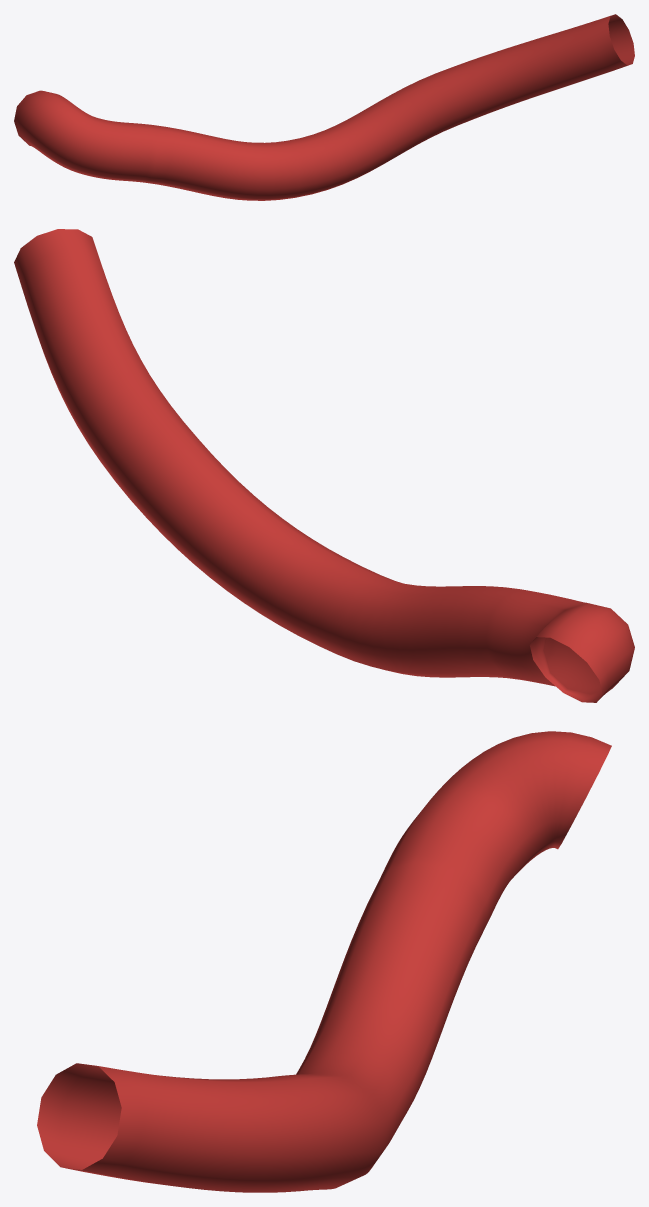
3 renders of one model, top to bottom at view 1: azimuth 30°, elevation 25°; view 2: azimuth 150°, elevation 25°; view 3: azimuth 270°, elevation 25°, orthographic. The views are drawn at different scales.
Parts seen in each view (by area): view 1: 左侧大脑中动脉M1段; view 2: 左侧大脑中动脉M1段; view 3: 左侧大脑中动脉M1段.
Boxes of the visible parts, x1=… form: 左侧大脑中动脉M1段: x1=14, y1=14, x2=634, y2=200; 左侧大脑中动脉M1段: x1=14, y1=229, x2=634, y2=702; 左侧大脑中动脉M1段: x1=37, y1=731, x2=611, y2=1192.
Size of the model in its own units: 0.0434 by 0.0136 by 0.0217.
